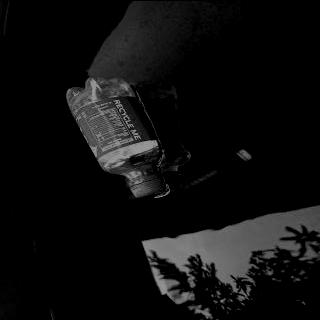bottle: (62, 74, 170, 198)
